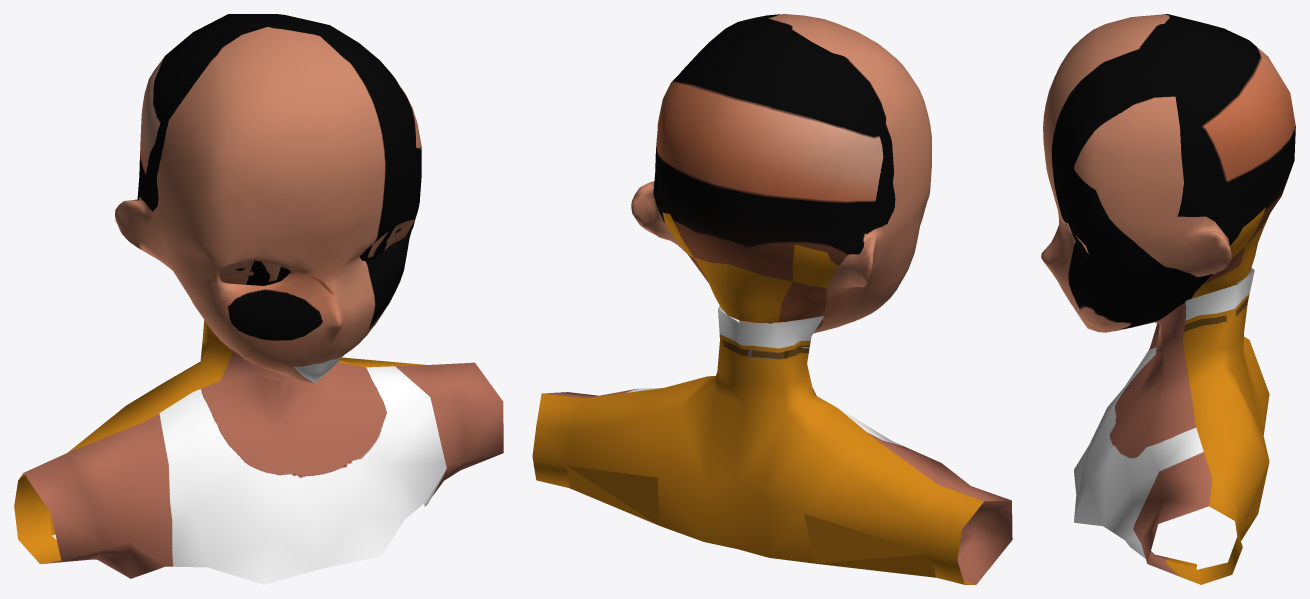
The model's file is IcePick_Bust.fbx.
The picture shows the model from 3 angles, left to right: view 1: azimuth 30°, elevation 25°; view 2: azimuth 150°, elevation 25°; view 3: azimuth 270°, elevation 25°; orthographic projection. The views are drawn at different scales.
Parts seen in each view (by area): view 1: Body.001, Face, Eye; view 2: Face, Body.001; view 3: Face, Body.001.
Boxes of the visible parts, bbox=[...] form: Body.001: bbox=[14, 320, 503, 584]; Face: bbox=[115, 14, 421, 383]; Eye: bbox=[218, 219, 414, 285]; Face: bbox=[631, 14, 931, 333]; Body.001: bbox=[532, 305, 1012, 584]; Face: bbox=[1041, 14, 1295, 332]; Body.001: bbox=[1074, 267, 1269, 584].
Size of the model in its own units: 216 by 235 by 114.
